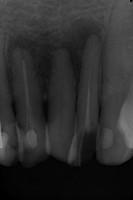Dental Caries: (6, 16, 104, 99)
